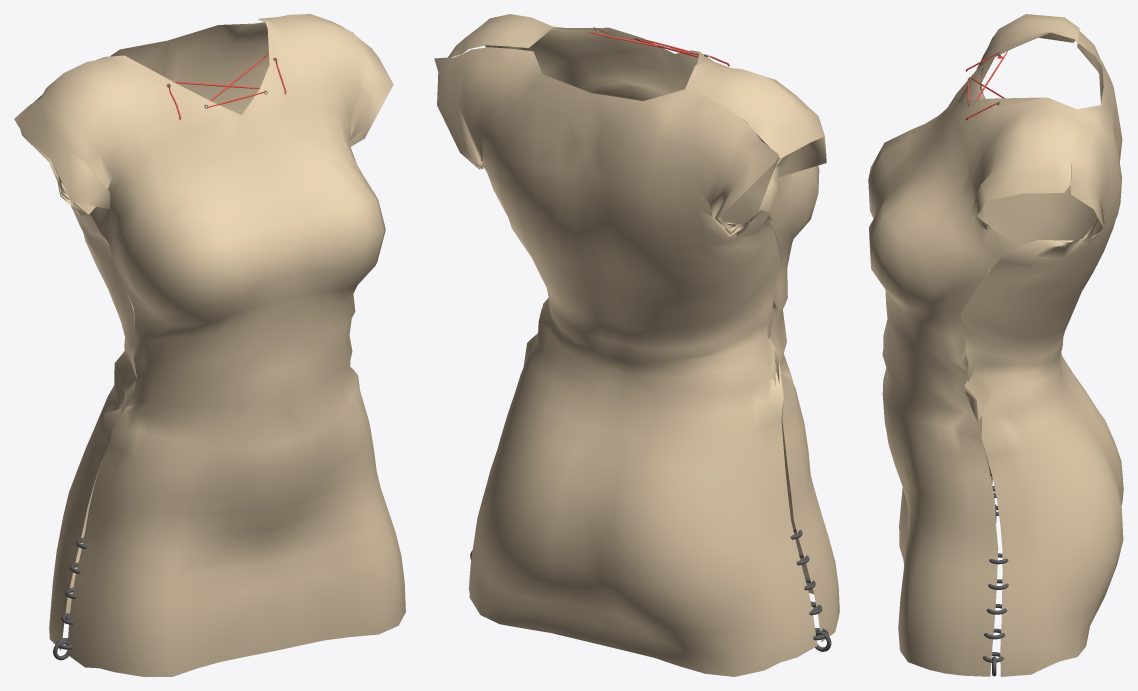
Rendered from Vil_Dress.glb.
3 renders of one model, left to right at view 1: azimuth 30°, elevation 25°; view 2: azimuth 150°, elevation 25°; view 3: azimuth 270°, elevation 25°, orthographic. The views are drawn at different scales.
Visible parts, largest first — view 1: Vil_Dress; view 2: Vil_Dress; view 3: Vil_Dress.
Part boxes in pixels (x1,y1,x2,y2): Vil_Dress: [14, 14, 405, 676]; Vil_Dress: [434, 14, 839, 676]; Vil_Dress: [868, 14, 1123, 676].
Size of the model in its own units: 0.443 by 0.6894 by 0.2968.
